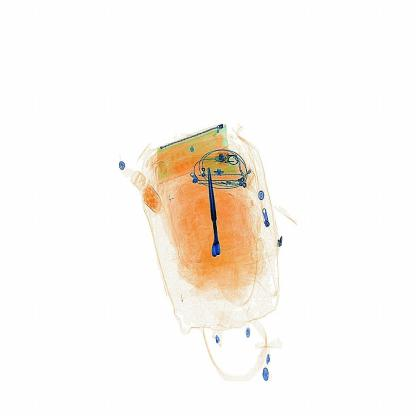gun: (192, 141, 230, 268)
